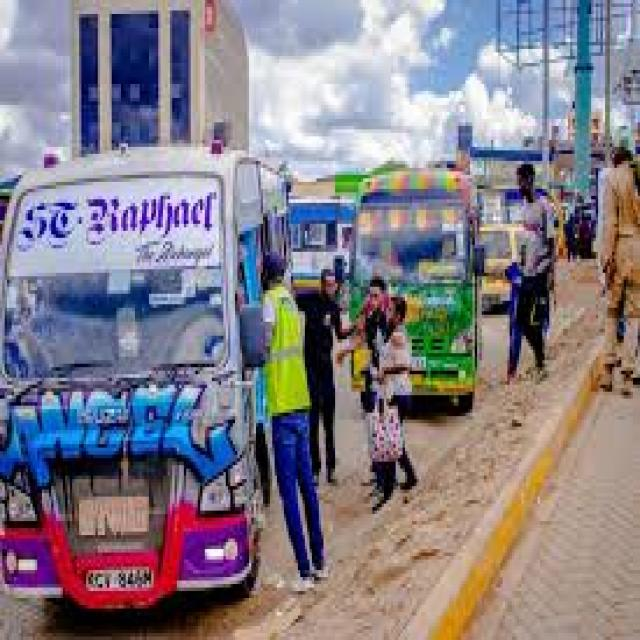bus: (7, 140, 300, 640), (352, 160, 488, 448), (308, 180, 341, 300)
matatu: (495, 215, 524, 332)
